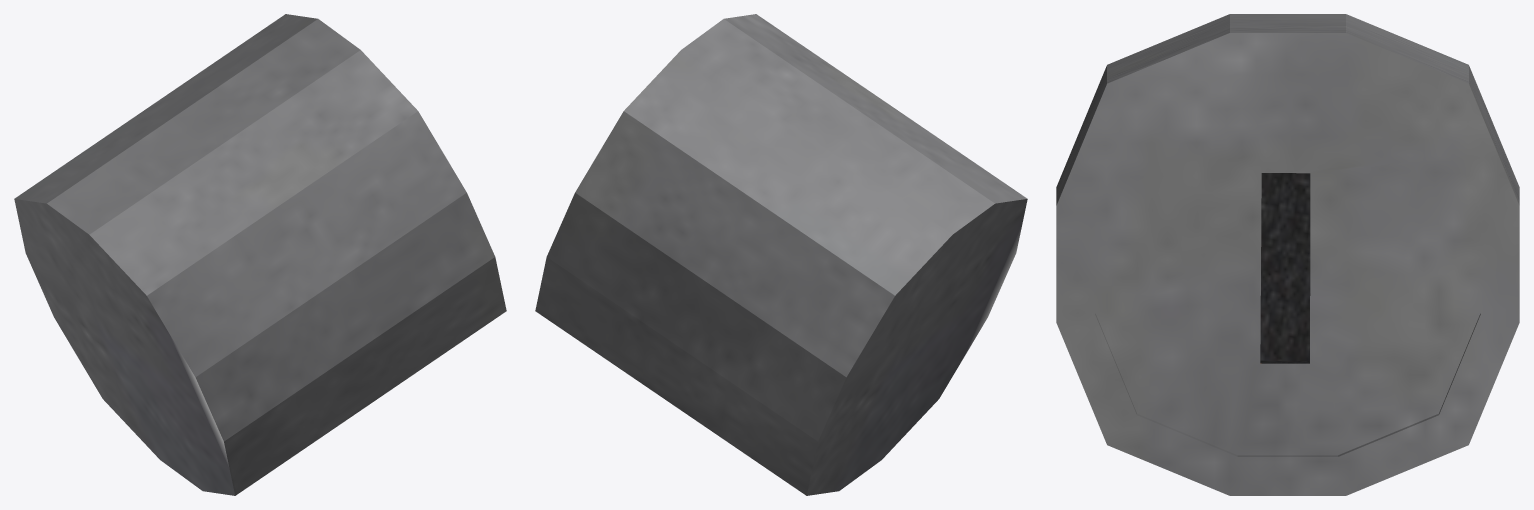
File: keyHolder.fbx
The picture shows the model from 3 angles, left to right: view 1: azimuth 30°, elevation 25°; view 2: azimuth 150°, elevation 25°; view 3: azimuth 270°, elevation 25°; orthographic projection. The views are drawn at different scales.
Parts seen in each view (by area): view 1: dialVolume.001; view 2: dialVolume.001; view 3: dialVolume.001.
Boxes of the visible parts, x1,y1,x2,y2 form: dialVolume.001: (14, 14, 506, 495); dialVolume.001: (535, 14, 1027, 495); dialVolume.001: (1056, 14, 1519, 495).
Size of the model in its own units: 31.04 by 31.04 by 23.73.
1 material, 1 textured.
